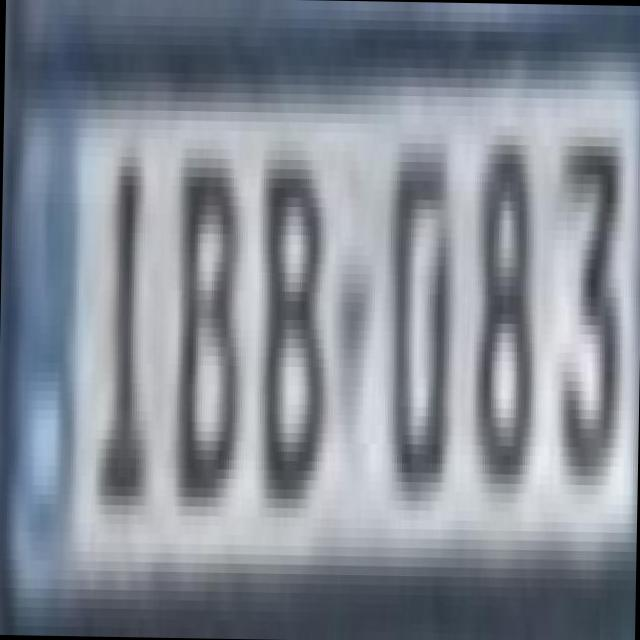1: (85, 128, 156, 496)
3: (544, 98, 627, 485)
8: (459, 106, 541, 493), (248, 131, 334, 499)
B: (162, 129, 245, 507)
D: (375, 123, 463, 501)
